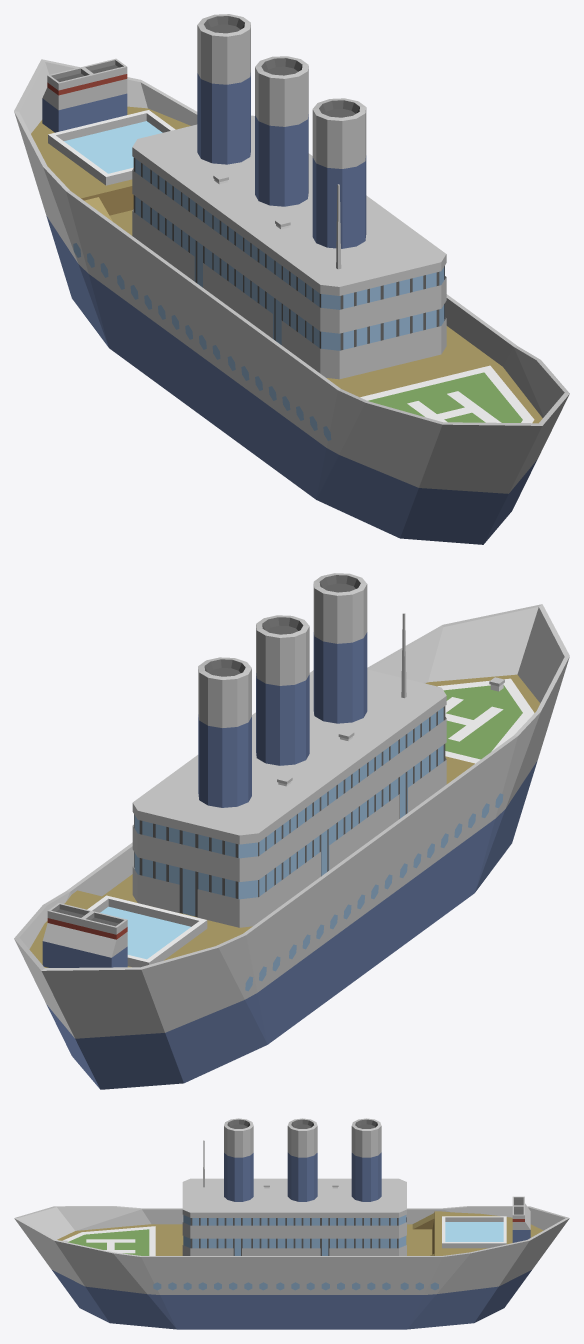
File: transport_water_002.glb
3 views of the same model, one above another, from view 1: azimuth 30°, elevation 25°; view 2: azimuth 150°, elevation 25°; view 3: azimuth 270°, elevation 25° (orthographic). The views are drawn at different scales.
Parts seen in each view (by area): view 1: transport_water_002; view 2: transport_water_002; view 3: transport_water_002.
Boxes of the visible parts, bbox=[...] form: transport_water_002: bbox=[14, 14, 569, 544]; transport_water_002: bbox=[14, 573, 569, 1089]; transport_water_002: bbox=[14, 1118, 569, 1329].
Size of the model in its own units: 7.68 by 13.48 by 37.
Materials: 1 (1 with a texture image).
